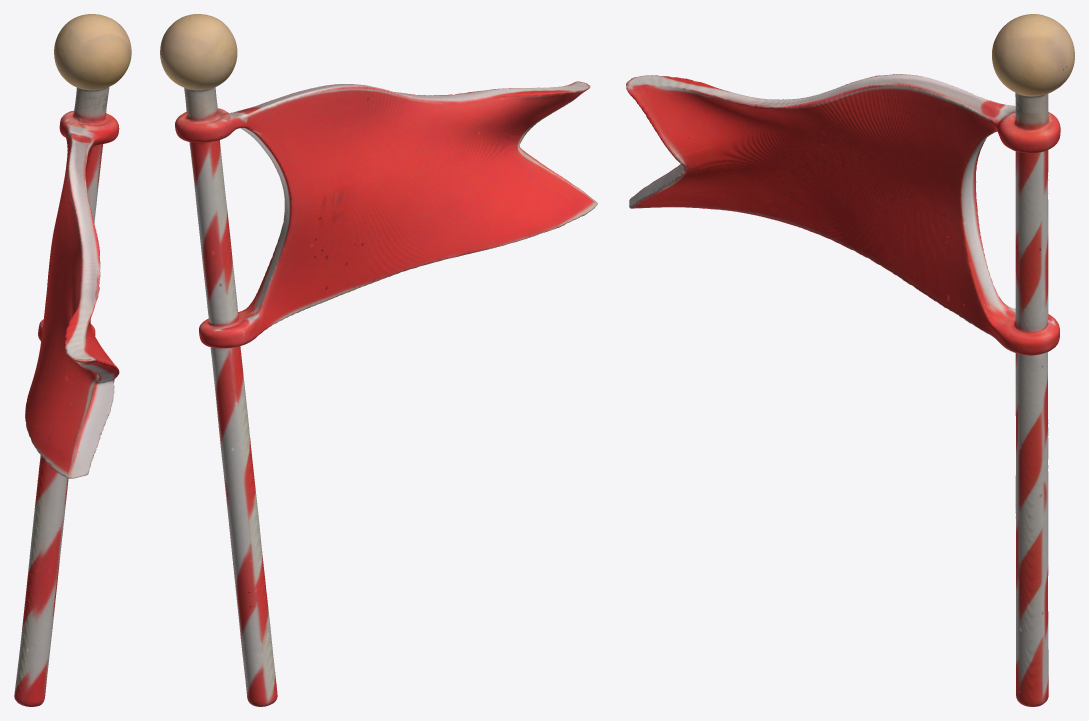
The model's file is Meshy_AI_flag_0219171042_texture.fbx.
The picture shows the model from 3 angles, left to right: view 1: azimuth 30°, elevation 25°; view 2: azimuth 150°, elevation 25°; view 3: azimuth 270°, elevation 25°; orthographic projection. The views are drawn at different scales.
Visible parts, largest first — view 1: Mesh_0; view 2: Mesh_0; view 3: Mesh_0.
Boxes of the visible parts, x1=… form: Mesh_0: x1=14, y1=14, x2=131, y2=706; Mesh_0: x1=160, y1=14, x2=597, y2=706; Mesh_0: x1=626, y1=14, x2=1074, y2=706.
Size of the model in its own units: 77.38 by 200 by 114.
Materials: 1 (1 with a texture image).
